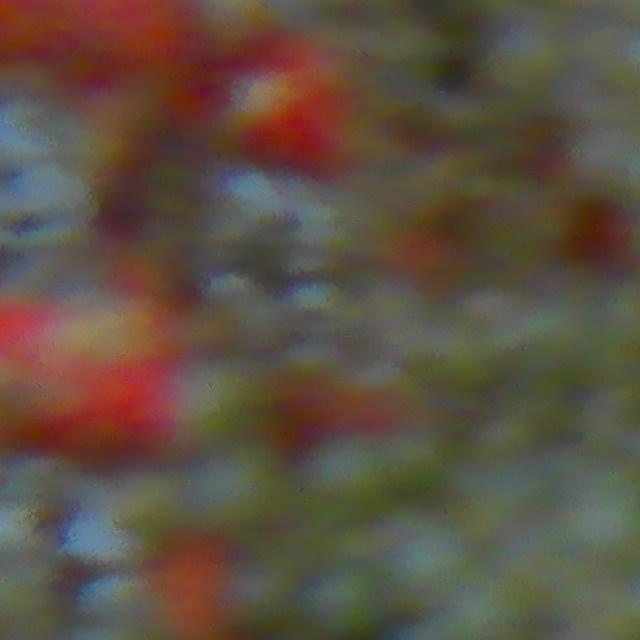SeaGrape: (165, 353, 266, 444), (378, 508, 467, 594), (564, 465, 640, 564), (296, 425, 383, 510), (303, 561, 382, 636), (192, 446, 269, 519), (569, 142, 620, 194)
